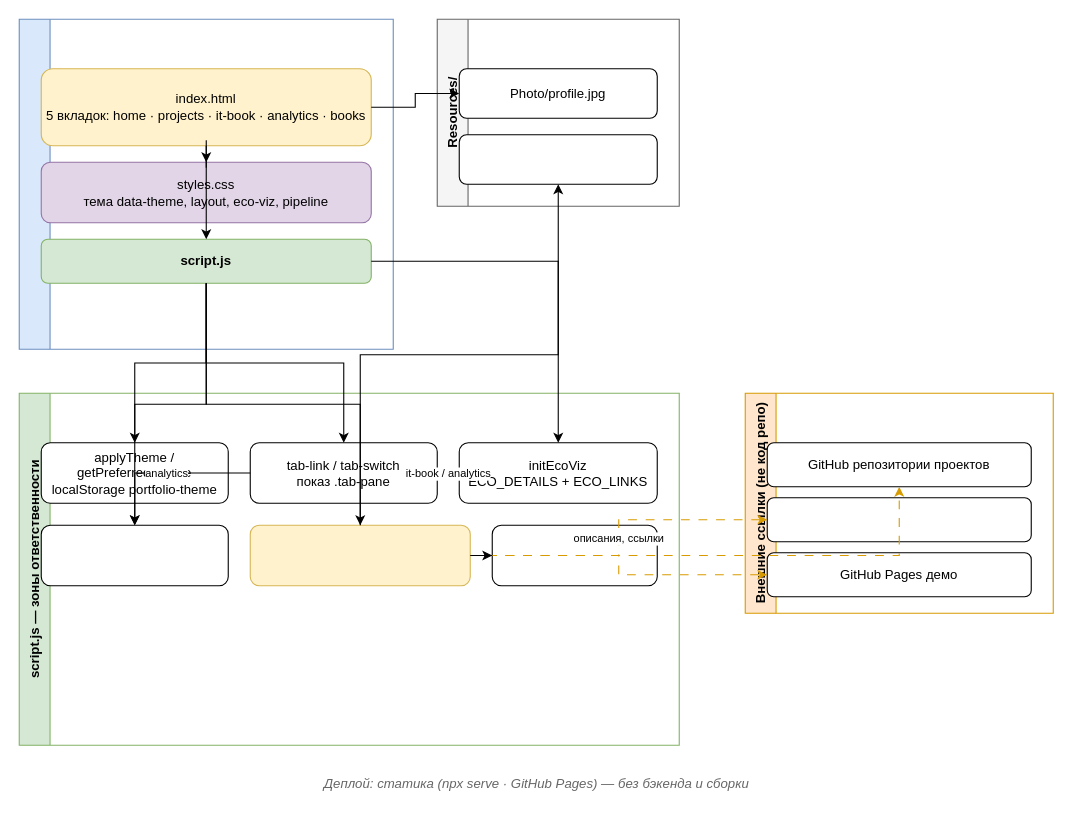
Some shapes in this 1073 by 820 pixel diagram are drawn without their labels. The box of each missing label's shape, as (x1, y1, x2, y2) in pixels:
enhanceProjectScreenshots: (491, 524, 657, 586)
initAnalyticsPipeline PIPELINE_STEPS: (40, 524, 228, 586)
loadProject(id) ~40 кейсов → #projectDetails: (249, 524, 470, 586)
Screenshots/*.png: (458, 134, 657, 184)
spirzen.ru · it-knowledge-base · MAUI app: (766, 497, 1031, 542)
Браузер: (18, 18, 393, 349)
